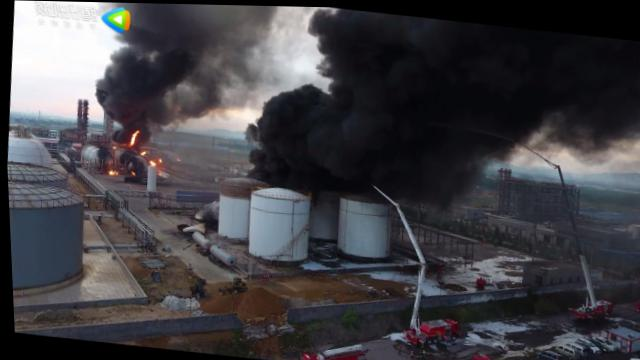fire: (128, 128, 138, 146), (149, 158, 158, 165), (108, 168, 118, 174), (140, 148, 147, 155), (155, 157, 163, 162), (129, 170, 135, 174)
